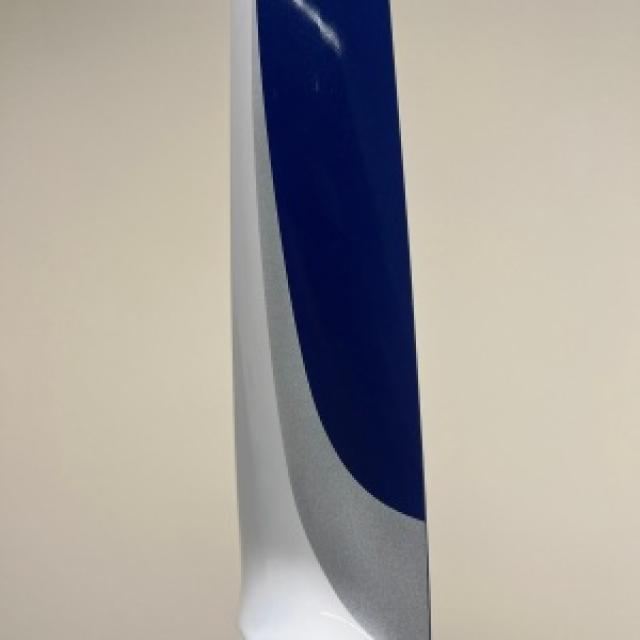healthy: (230, 0, 427, 638)
